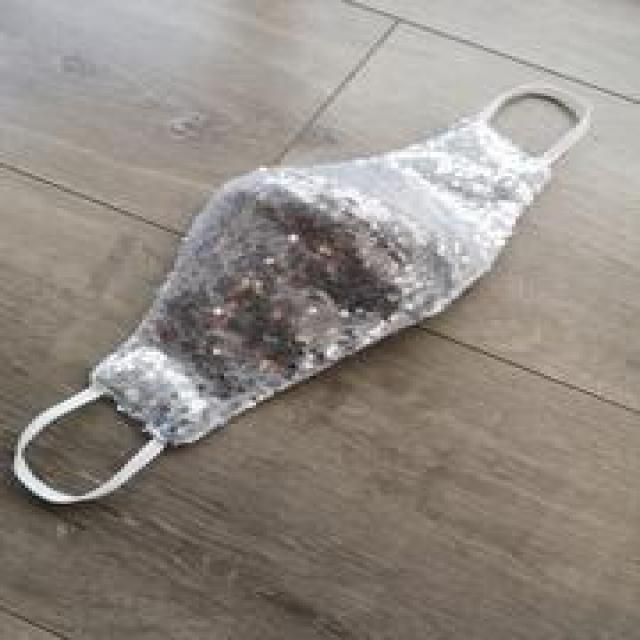face mask: (22, 90, 580, 510)
